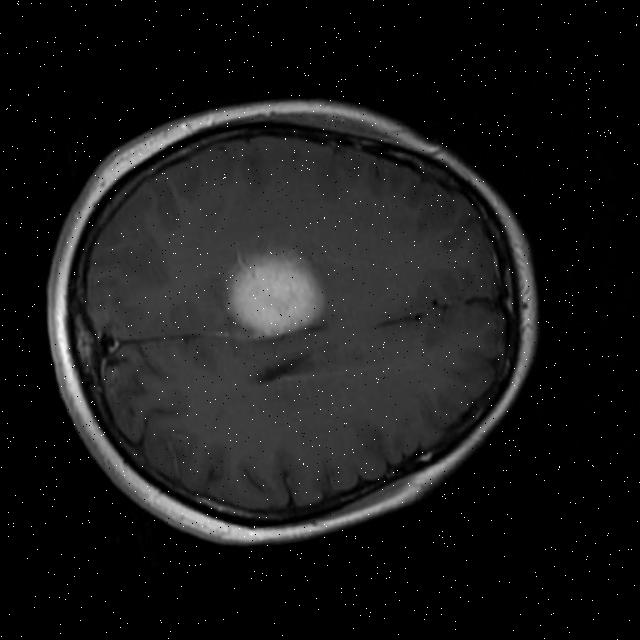Meningioma: (214, 235, 332, 348)
